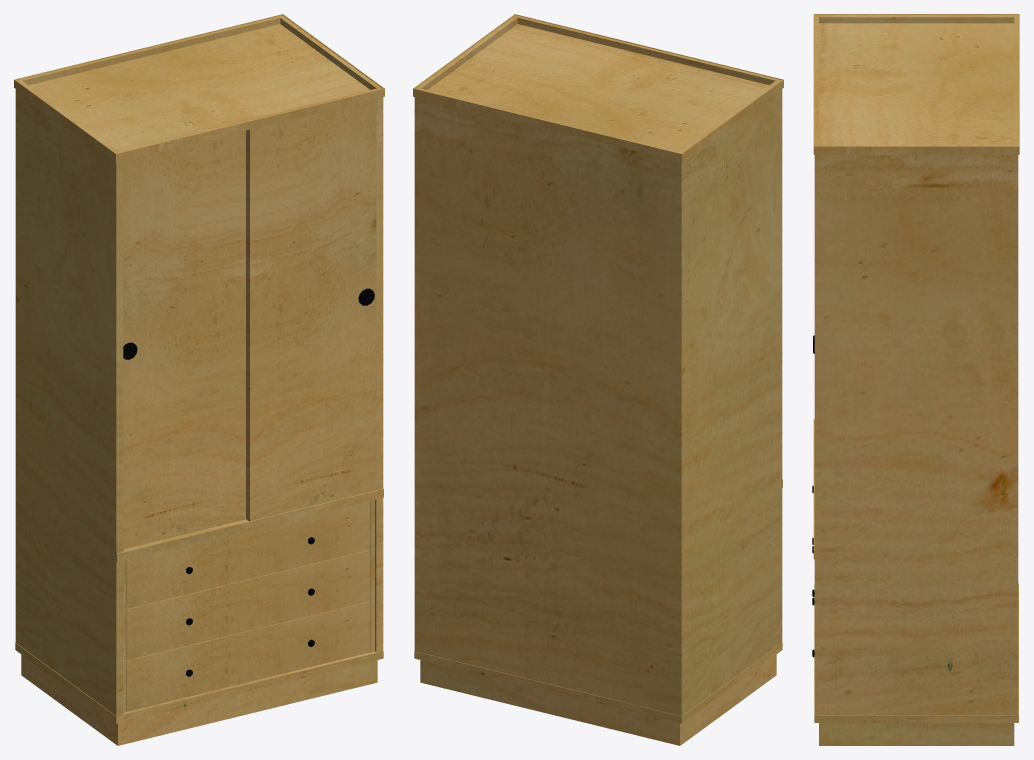
The picture shows the model from 3 angles, left to right: view 1: azimuth 30°, elevation 25°; view 2: azimuth 150°, elevation 25°; view 3: azimuth 270°, elevation 25°; orthographic projection.
Parts seen in each view (by area): view 1: Placard; view 2: Placard; view 3: Placard.
Part boxes in pixels (x1,y1,x2,y2): Placard: [14, 14, 384, 745]; Placard: [413, 14, 783, 745]; Placard: [812, 14, 1019, 745].
Size of the model in its own units: 0.786 by 1.66 by 0.519.
Materials: 2 (1 with a texture image).
